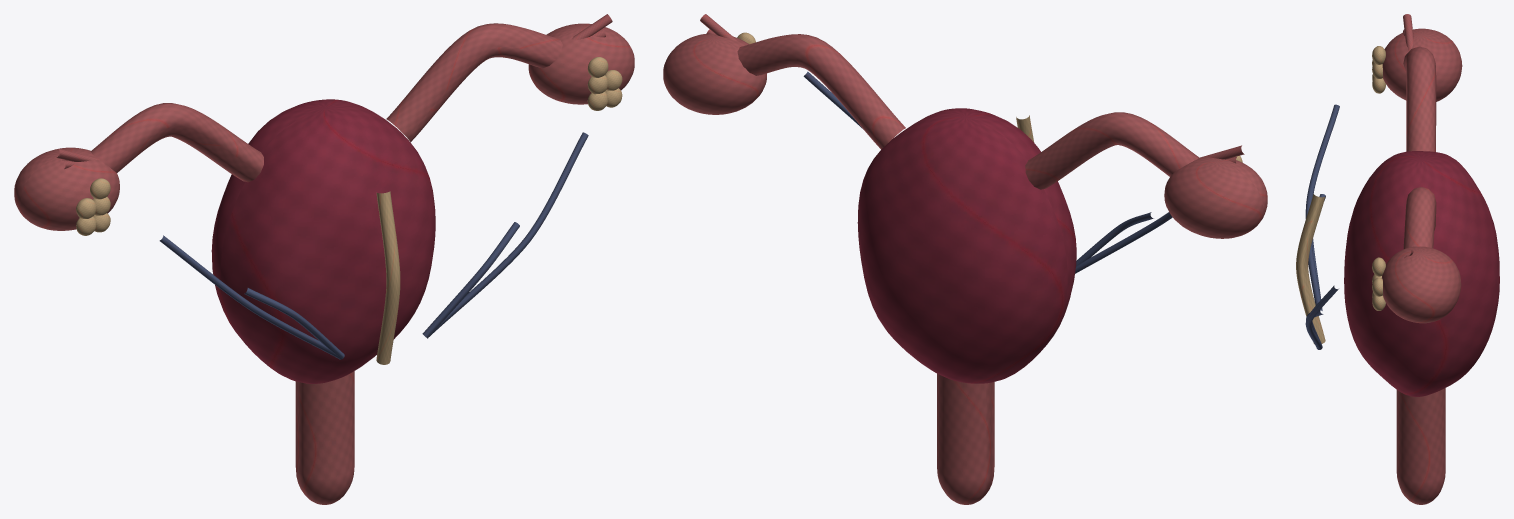
Rendered from female-reproductive.4c8e17dc.glb.
The picture shows the model from 3 angles, left to right: view 1: azimuth 30°, elevation 25°; view 2: azimuth 150°, elevation 25°; view 3: azimuth 270°, elevation 25°; orthographic projection. The views are drawn at different scales.
Visible parts, largest first — view 1: procedural-female-reproductive-surface-1, procedural-female-reproductive-surface-2, procedural-female-reproductive-surface-4, procedural-female-reproductive-surface-3, procedural-female-reproductive-surface-5, procedural-female-reproductive-surface-6, procedural-female-reproductive-surface-7, procedural-female-reproductive-surface-31, procedural-female-reproductive-surface-19, procedural-female-reproductive-surface-30, procedural-female-reproductive-surface-18; view 2: procedural-female-reproductive-surface-1, procedural-female-reproductive-surface-2, procedural-female-reproductive-surface-5, procedural-female-reproductive-surface-4, procedural-female-reproductive-surface-6, procedural-female-reproductive-surface-3, procedural-female-reproductive-surface-19, procedural-female-reproductive-surface-18; view 3: procedural-female-reproductive-surface-1, procedural-female-reproductive-surface-2, procedural-female-reproductive-surface-6, procedural-female-reproductive-surface-3, procedural-female-reproductive-surface-5, procedural-female-reproductive-surface-4, procedural-female-reproductive-surface-7, procedural-female-reproductive-surface-19, procedural-female-reproductive-surface-31, procedural-female-reproductive-surface-18, procedural-female-reproductive-surface-12.
Boxes of the visible parts, x1,y1,x2,y2 form: procedural-female-reproductive-surface-1: (211, 99, 435, 383); procedural-female-reproductive-surface-2: (295, 371, 354, 504); procedural-female-reproductive-surface-4: (386, 23, 562, 142); procedural-female-reproductive-surface-3: (90, 103, 263, 182); procedural-female-reproductive-surface-5: (14, 147, 119, 230); procedural-female-reproductive-surface-6: (528, 23, 634, 104); procedural-female-reproductive-surface-7: (376, 191, 400, 364); procedural-female-reproductive-surface-31: (429, 132, 588, 336); procedural-female-reproductive-surface-19: (159, 235, 340, 359); procedural-female-reproductive-surface-30: (422, 222, 519, 338); procedural-female-reproductive-surface-18: (244, 288, 344, 359); procedural-female-reproductive-surface-1: (857, 108, 1076, 383); procedural-female-reproductive-surface-2: (937, 373, 994, 504); procedural-female-reproductive-surface-5: (1164, 157, 1267, 238); procedural-female-reproductive-surface-4: (737, 34, 905, 149); procedural-female-reproductive-surface-6: (663, 33, 766, 114); procedural-female-reproductive-surface-3: (1025, 112, 1199, 189); procedural-female-reproductive-surface-19: (1075, 212, 1172, 273); procedural-female-reproductive-surface-18: (1076, 212, 1153, 266); procedural-female-reproductive-surface-1: (1344, 151, 1499, 396); procedural-female-reproductive-surface-2: (1396, 388, 1445, 504); procedural-female-reproductive-surface-6: (1382, 246, 1461, 323); procedural-female-reproductive-surface-3: (1403, 46, 1436, 151); procedural-female-reproductive-surface-5: (1382, 28, 1462, 101); procedural-female-reproductive-surface-4: (1403, 187, 1436, 248); procedural-female-reproductive-surface-7: (1296, 194, 1325, 344); procedural-female-reproductive-surface-19: (1305, 104, 1339, 299); procedural-female-reproductive-surface-31: (1305, 285, 1338, 349); procedural-female-reproductive-surface-18: (1308, 194, 1325, 310); procedural-female-reproductive-surface-12: (1403, 14, 1413, 51).
Size of the model in its own units: 3.5 by 2.4 by 1.16.
Materials: 4 (4 with a texture image).
